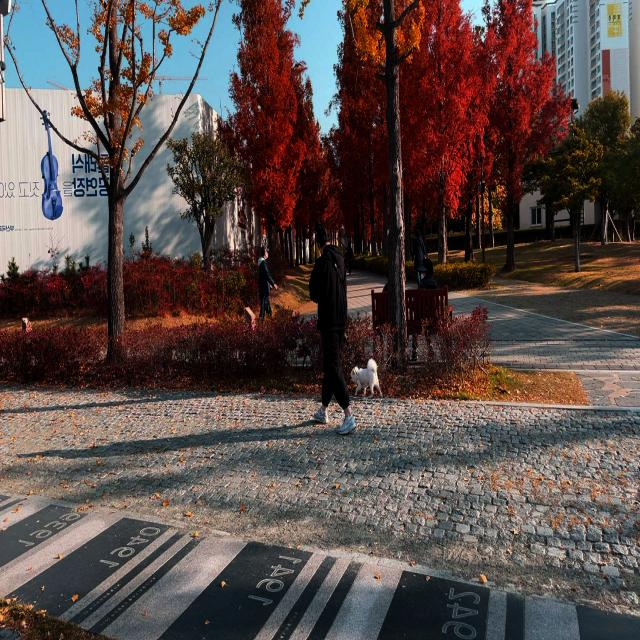Leashed_Dog: (339, 327, 384, 400)
